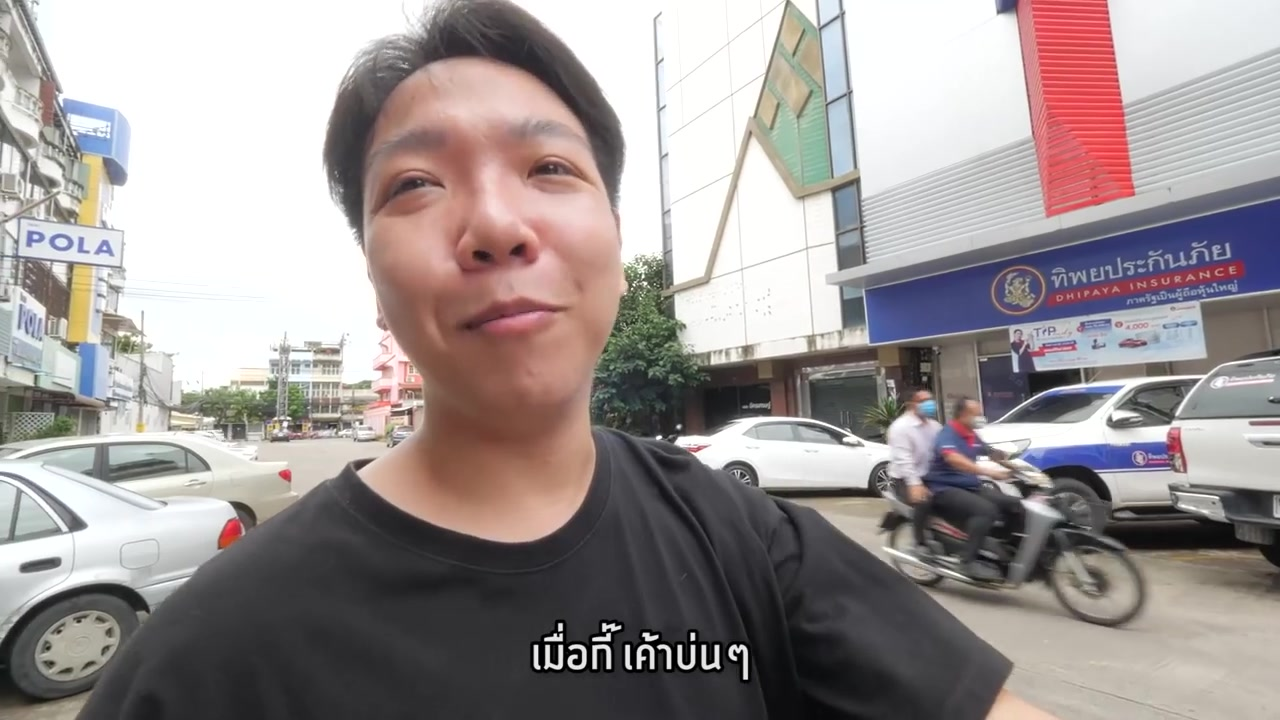text-label: (526, 617, 756, 686)
